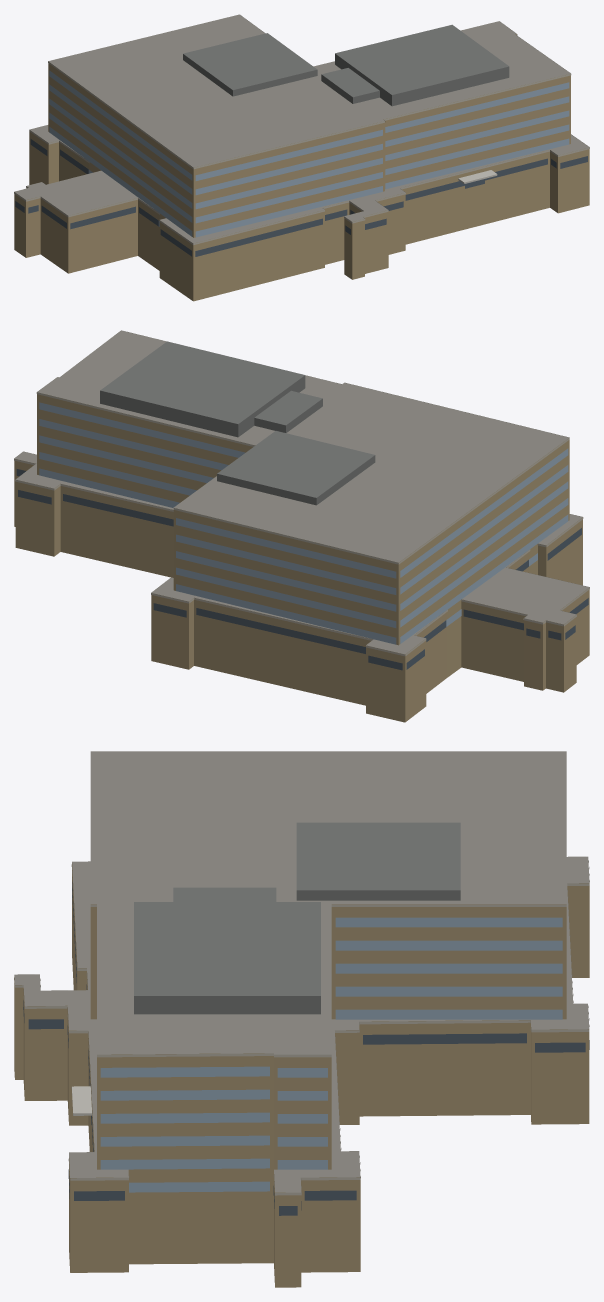
Rendered from government-7460-m2-bo78480.glb.
3 views of the same model, one above another, from view 1: azimuth 30°, elevation 25°; view 2: azimuth 150°, elevation 25°; view 3: azimuth 270°, elevation 25° (orthographic). The views are drawn at different scales.
Parts seen in each view (by area): view 1: government_7460_m2_bo78480; view 2: government_7460_m2_bo78480; view 3: government_7460_m2_bo78480.
Part boxes in pixels (box(x1,y1,x2,y2)): government_7460_m2_bo78480: box(14, 14, 589, 301); government_7460_m2_bo78480: box(14, 330, 589, 722); government_7460_m2_bo78480: box(14, 751, 589, 1287).
Bounding box in the file's own units: 148 × 39.7 × 90.74.
